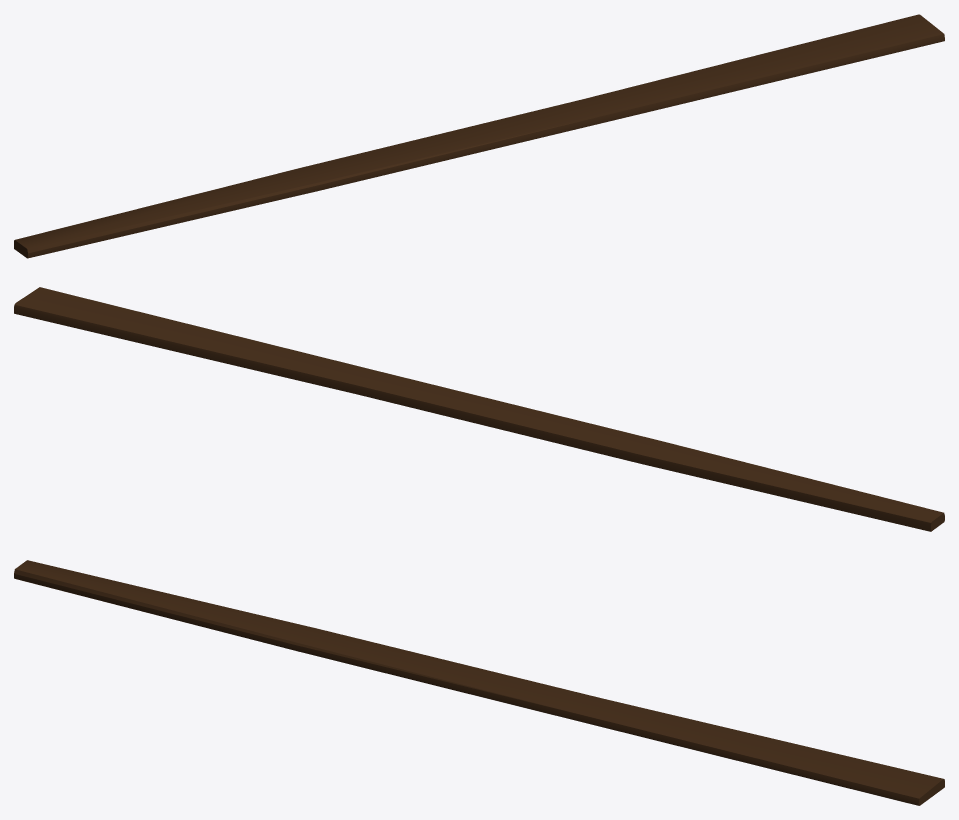
The model's file is BridgePlank05.FBX.
The picture shows the model from 3 angles, top to bottom: view 1: azimuth 30°, elevation 25°; view 2: azimuth 150°, elevation 25°; view 3: azimuth 330°, elevation 25°; orthographic projection.
Parts seen in each view (by area): view 1: Plank005; view 2: Plank005; view 3: Plank005.
Boxes of the visible parts, x1,y1,x2,y2 form: Plank005: (14, 14, 944, 258); Plank005: (14, 287, 944, 531); Plank005: (14, 560, 944, 805).
Size of the model in its own units: 500 by 5 by 25.17.
